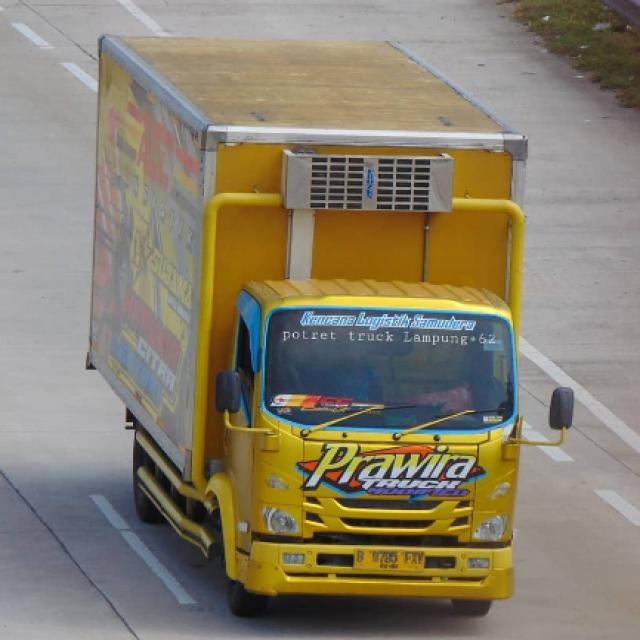Truck: (71, 19, 592, 632)
